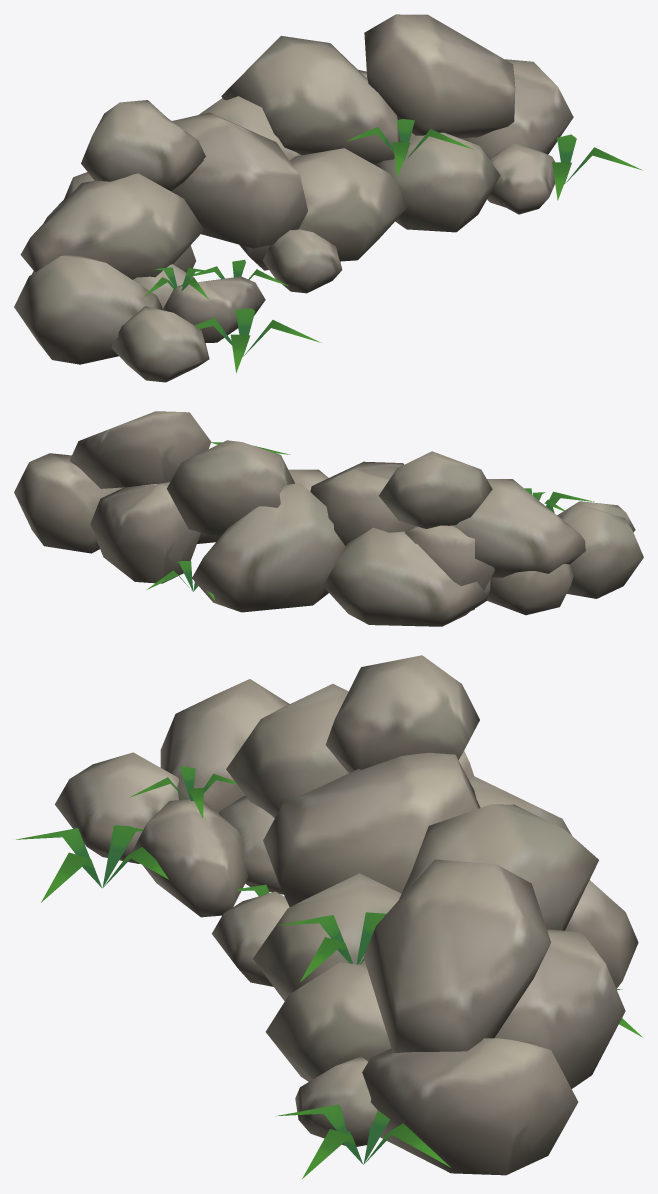
The model's file is FH_Env_obj_14.FBX.
The picture shows the model from 3 angles, top to bottom: view 1: azimuth 30°, elevation 25°; view 2: azimuth 150°, elevation 25°; view 3: azimuth 270°, elevation 25°; orthographic projection. The views are drawn at different scales.
Visible parts, largest first — view 1: ShiTou, Object03, Object08, Object06, Object05, Object04, Object07; view 2: ShiTou, Object08, Object03, Object04, Object06, Object05; view 3: ShiTou, Object03, Object04, Object08, Object06, Object05, Object07.
Part boxes in pixels (box(x1,y1,x2,y2)): ShiTou: box(32, 36, 642, 373); Object03: box(364, 14, 515, 137); Object08: box(20, 173, 203, 279); Object06: box(14, 254, 162, 364); Object05: box(111, 306, 209, 382); Object04: box(459, 59, 573, 159); Object07: box(262, 229, 342, 293); ShiTou: box(90, 440, 594, 626); Object08: box(452, 479, 585, 577); Object03: box(69, 411, 210, 488); Object04: box(14, 453, 139, 553); Object06: box(557, 503, 643, 598); Object05: box(577, 501, 635, 532); ShiTou: box(16, 655, 642, 1178); Object03: box(363, 859, 551, 1052); Object04: box(362, 1038, 578, 1175); Object08: box(226, 684, 348, 817); Object06: box(160, 679, 289, 813); Object05: box(55, 752, 178, 863); Object07: box(212, 891, 289, 986).
Bounding box in the file's own units: 6.46 × 1.63 × 4.05.
